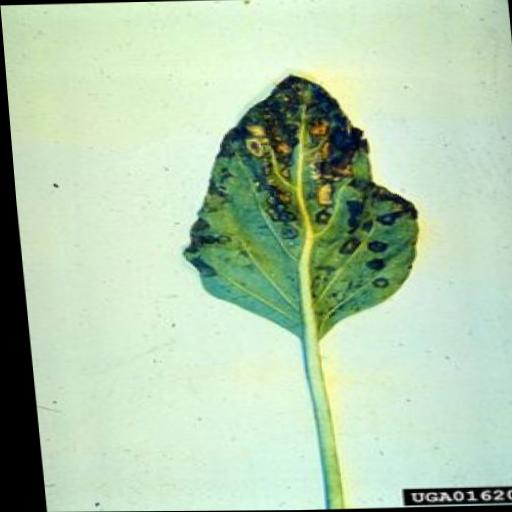Bacterial Spot: (160, 67, 425, 337)
